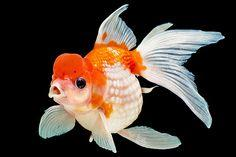goldfish: (44, 32, 192, 147)
